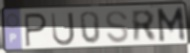0: (79, 10, 102, 46)
M: (155, 6, 188, 45)
P: (23, 12, 49, 49)
R: (130, 9, 159, 44)
S: (105, 9, 131, 45)
U: (49, 11, 77, 48)
